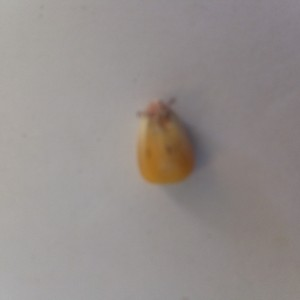maiz: (125, 94, 201, 188)
